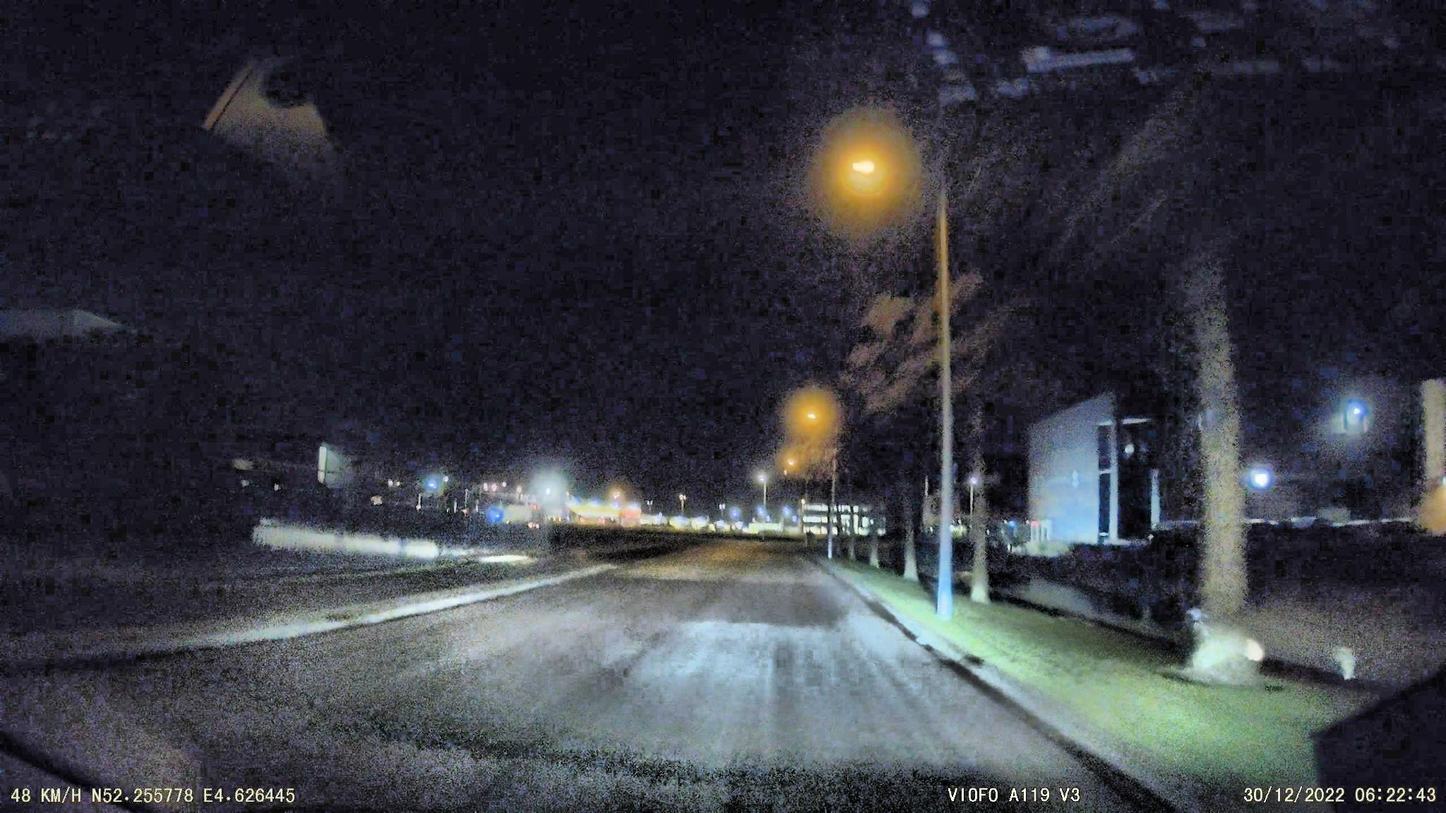Roads: (0, 550, 1128, 813)
